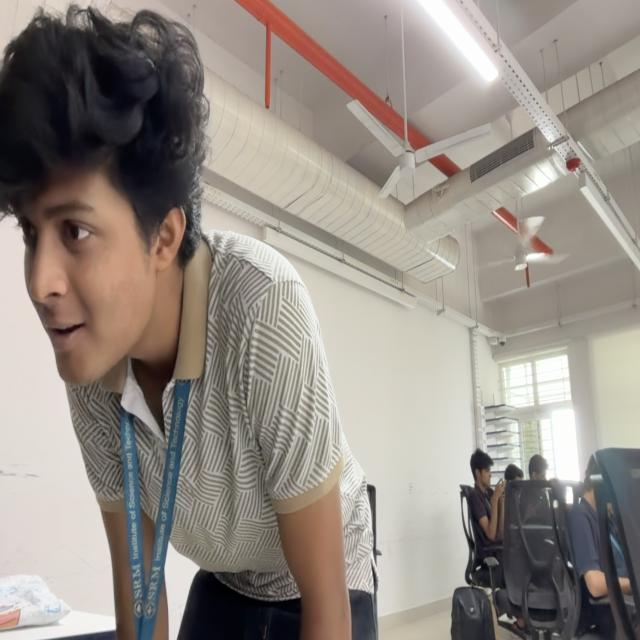kshitij: (2, 15, 202, 382)
